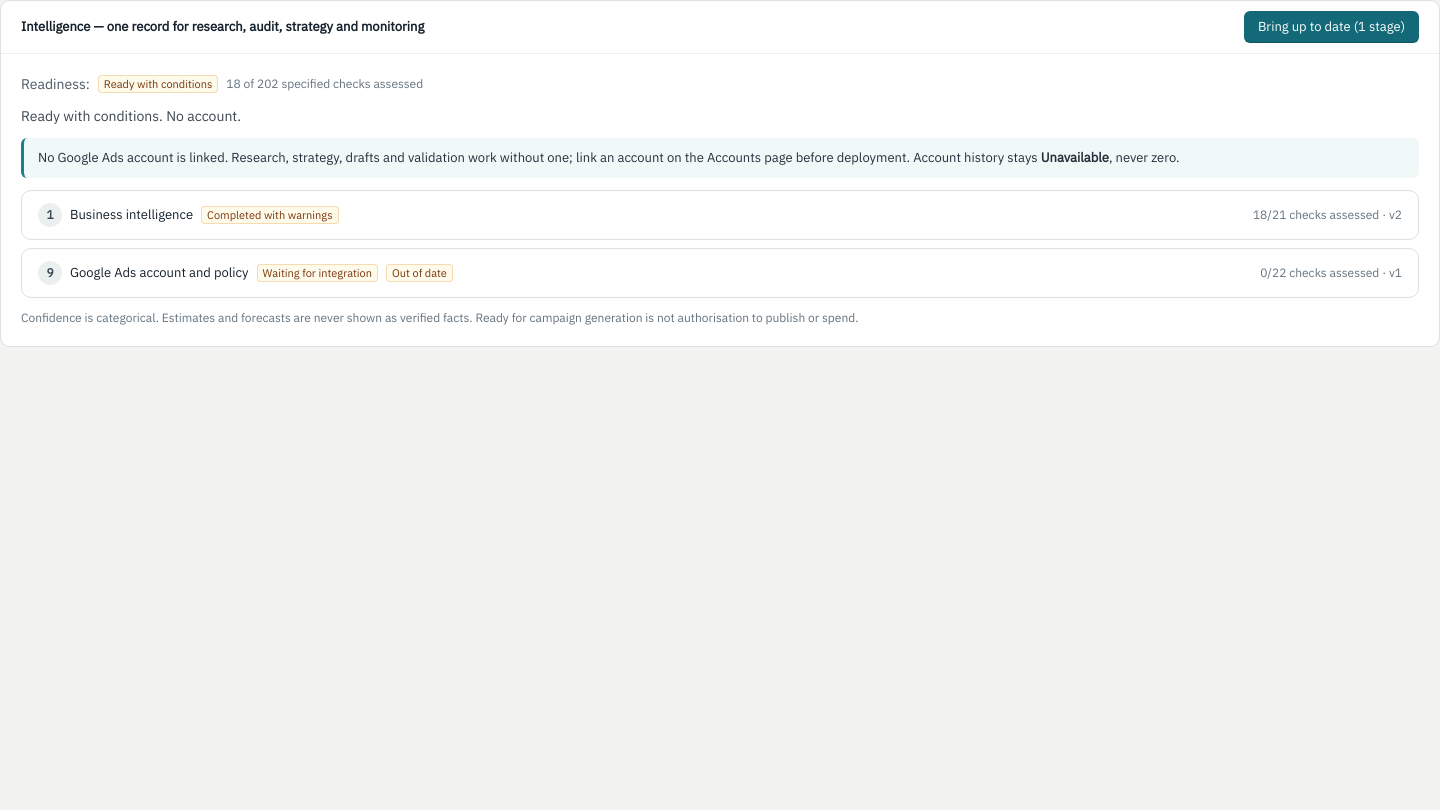
Scenario: IntelligencePanel › opens a module to show provenance on each finding and hides not-assessed placeholders until asked
Click the button "Business intelligence" at (132,214), box [22,191,1418,239]
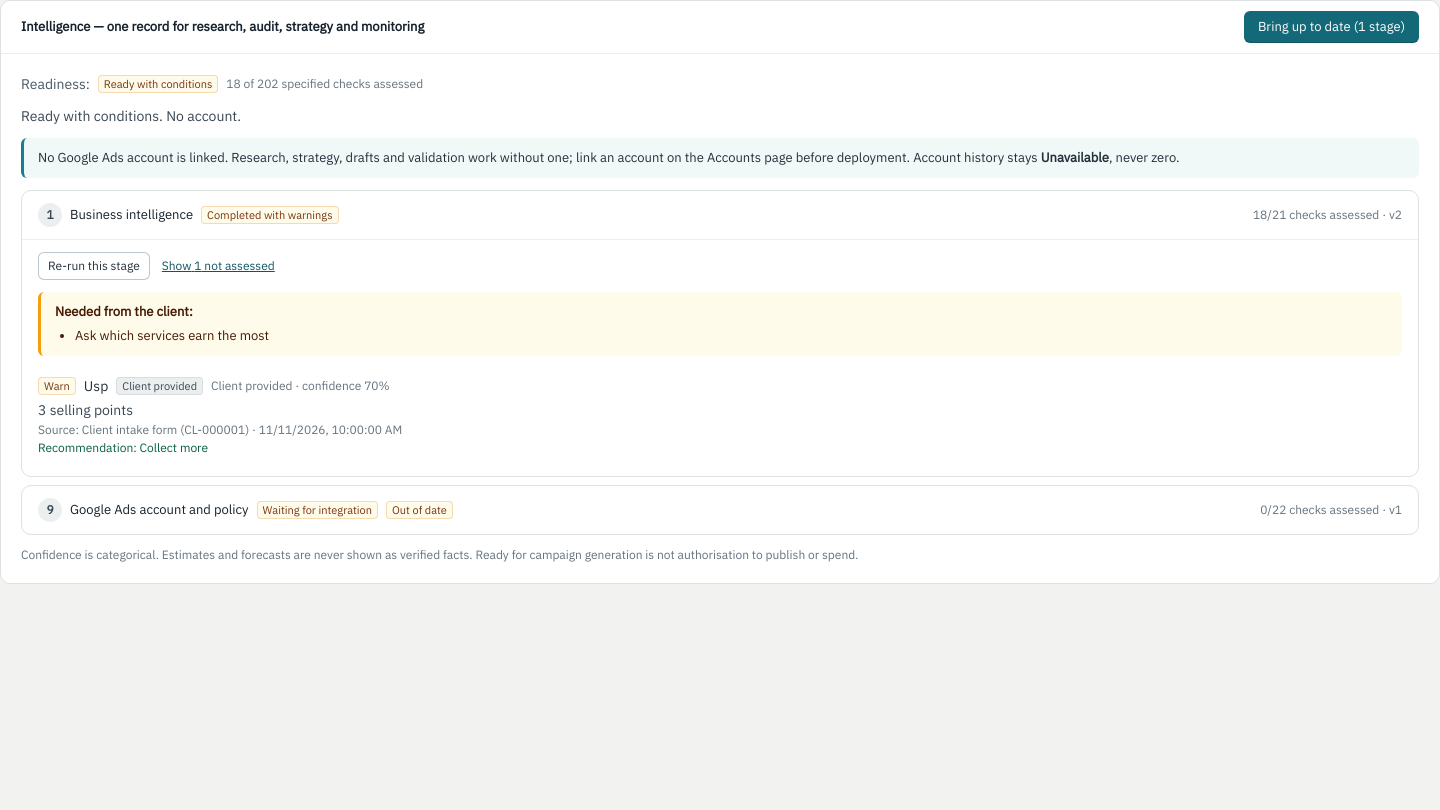
Now the text "3 selling points" is shown, box [38,401,133,419]
Now the text "Source: Client intake form" is shown, box [38,422,402,437]
Now the text "Client provided · confidence 70%" is shown, box [211,378,390,394]
Click the button "Show 1 not assessed" at (218,266), box [162,258,275,274]
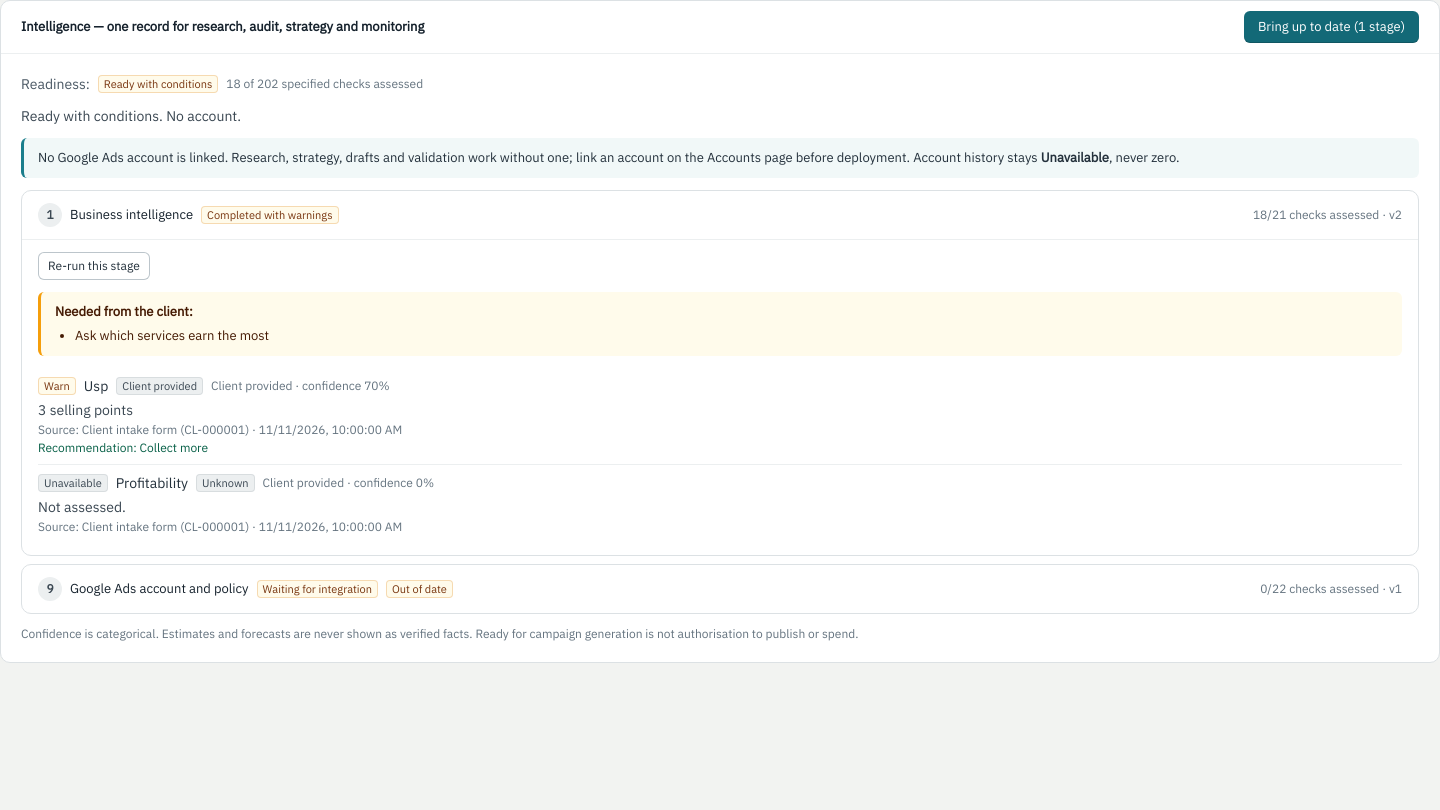
Now the text "Not assessed." is shown, box [38,498,126,516]
